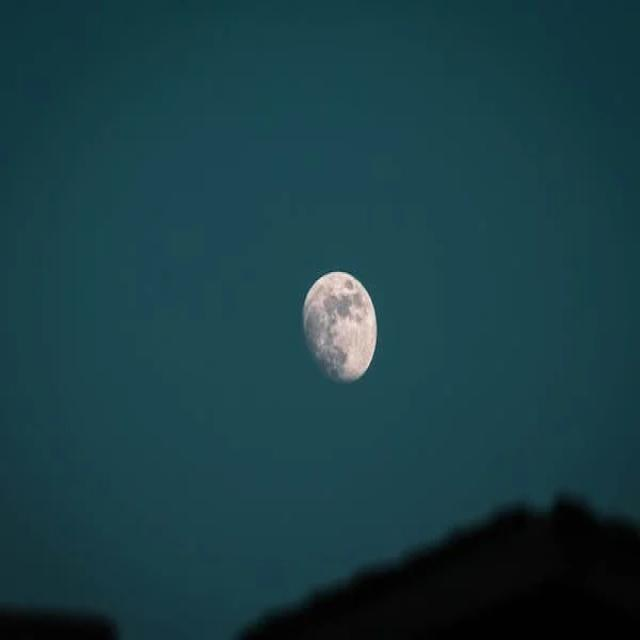moon: (294, 258, 386, 402)
